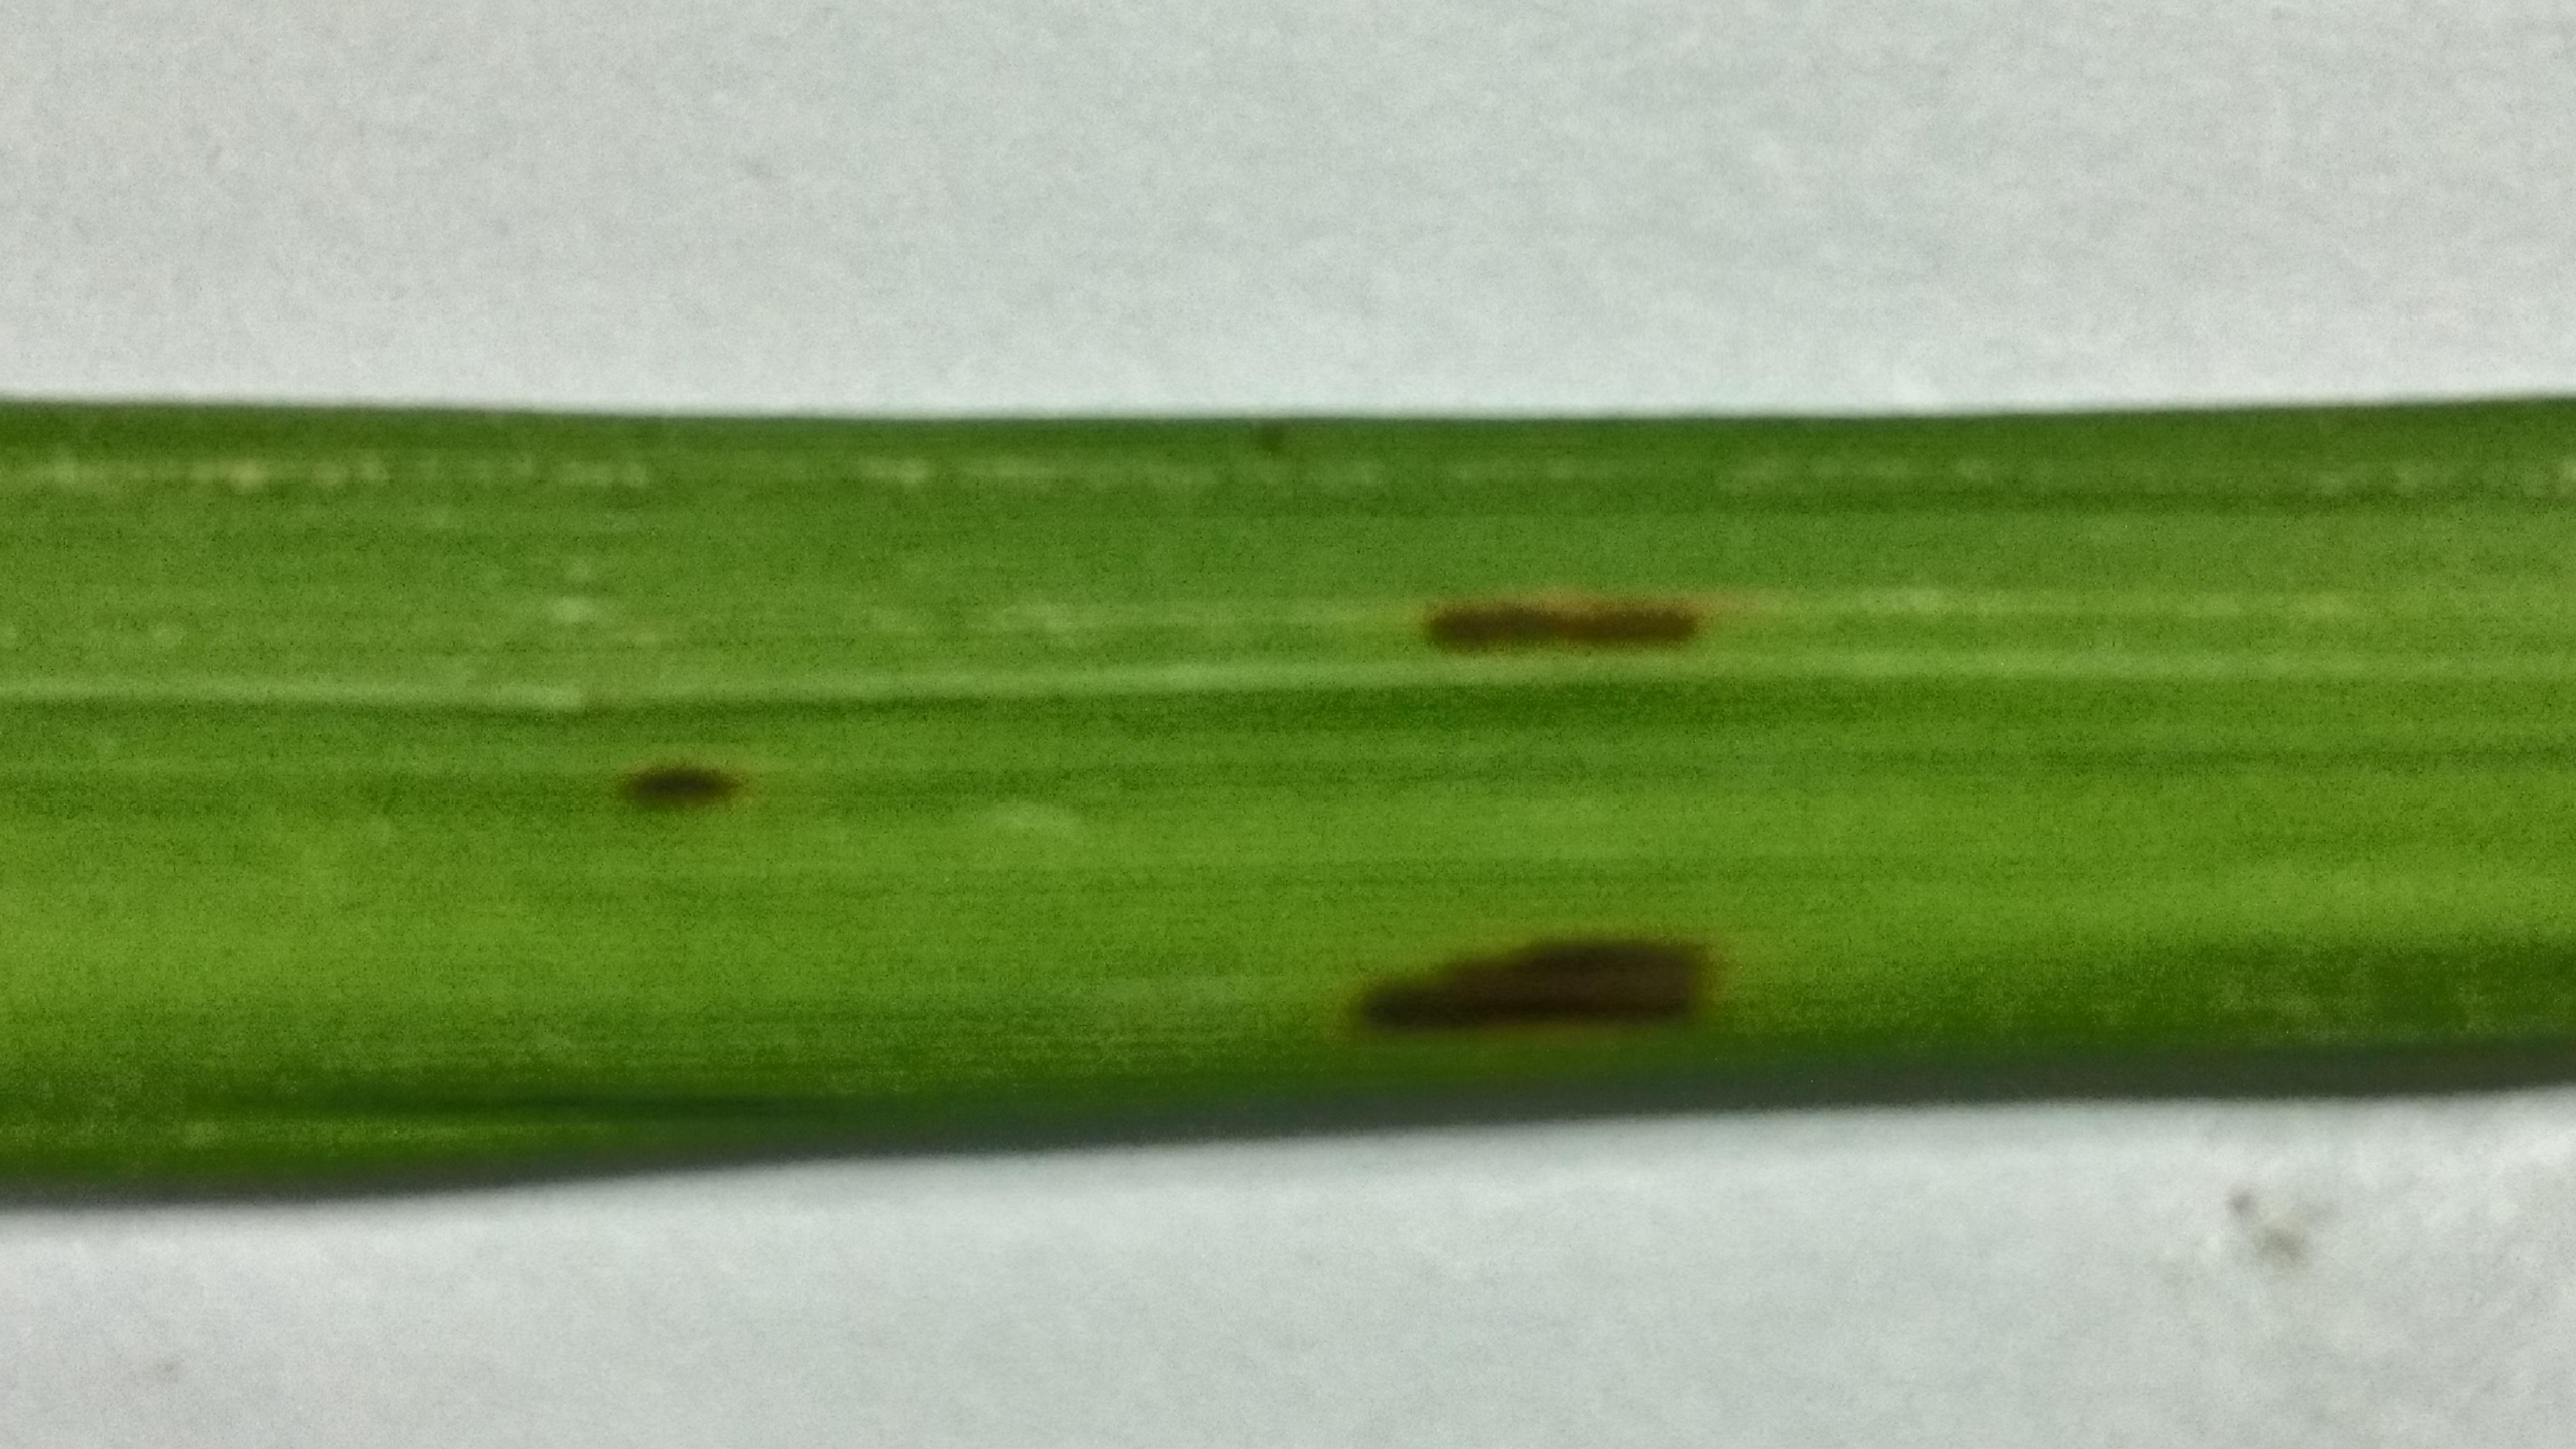leaf_smut: (600, 547, 1785, 1067)
